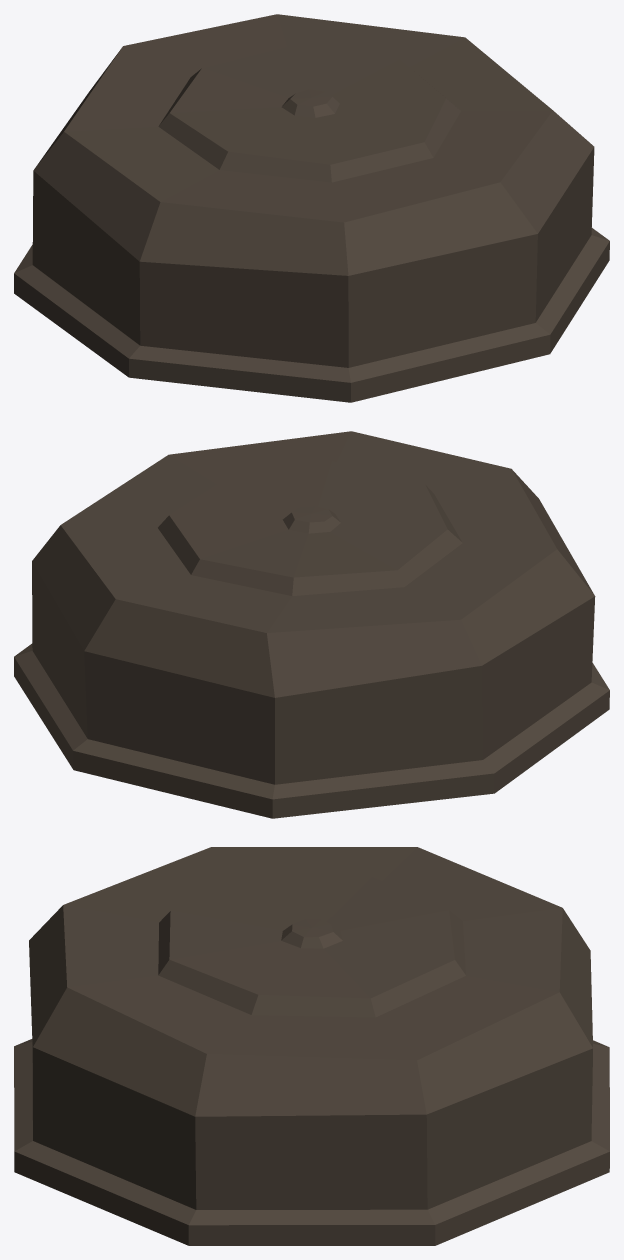
File: SM_Prop_Mine_01.fbx
3 renders of one model, top to bottom at view 1: azimuth 30°, elevation 25°; view 2: azimuth 150°, elevation 25°; view 3: azimuth 270°, elevation 25°, orthographic. The views are drawn at different scales.
Parts seen in each view (by area): view 1: SM_Prop_Mine_01; view 2: SM_Prop_Mine_01; view 3: SM_Prop_Mine_01.
Part boxes in pixels (<box>): SM_Prop_Mine_01: <box>14,14,609,402</box>; SM_Prop_Mine_01: <box>14,431,609,818</box>; SM_Prop_Mine_01: <box>14,847,609,1245</box>.
Bounding box in the file's own units: 31.2 × 11.29 × 31.2.
